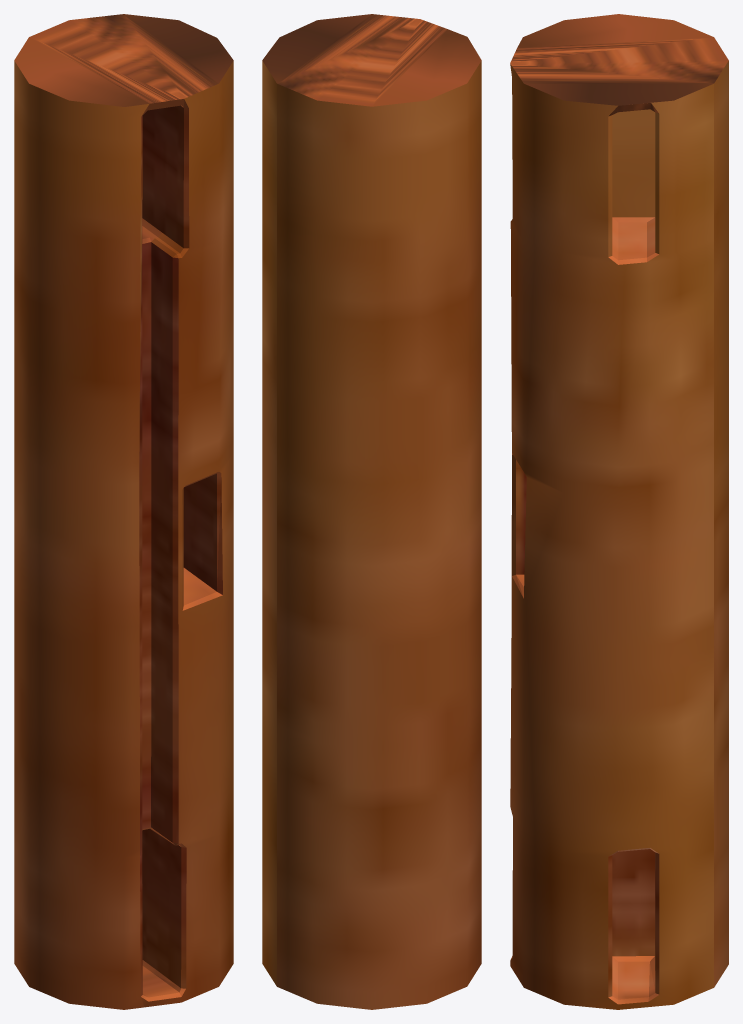
The model's file is SJ_J_tui_04.FBX.
3 views of the same model, side by side, from view 1: azimuth 30°, elevation 25°; view 2: azimuth 150°, elevation 25°; view 3: azimuth 270°, elevation 25° (orthographic).
Parts seen in each view (by area): view 1: SJ_J_tui_04; view 2: SJ_J_tui_04; view 3: SJ_J_tui_04.
Boxes of the visible parts, x1,y1,x2,y2 form: SJ_J_tui_04: (14,14,233,1009); SJ_J_tui_04: (262,14,481,1009); SJ_J_tui_04: (510,14,728,1009).
Size of the model in its own units: 3.99 by 18.34 by 4.02.
